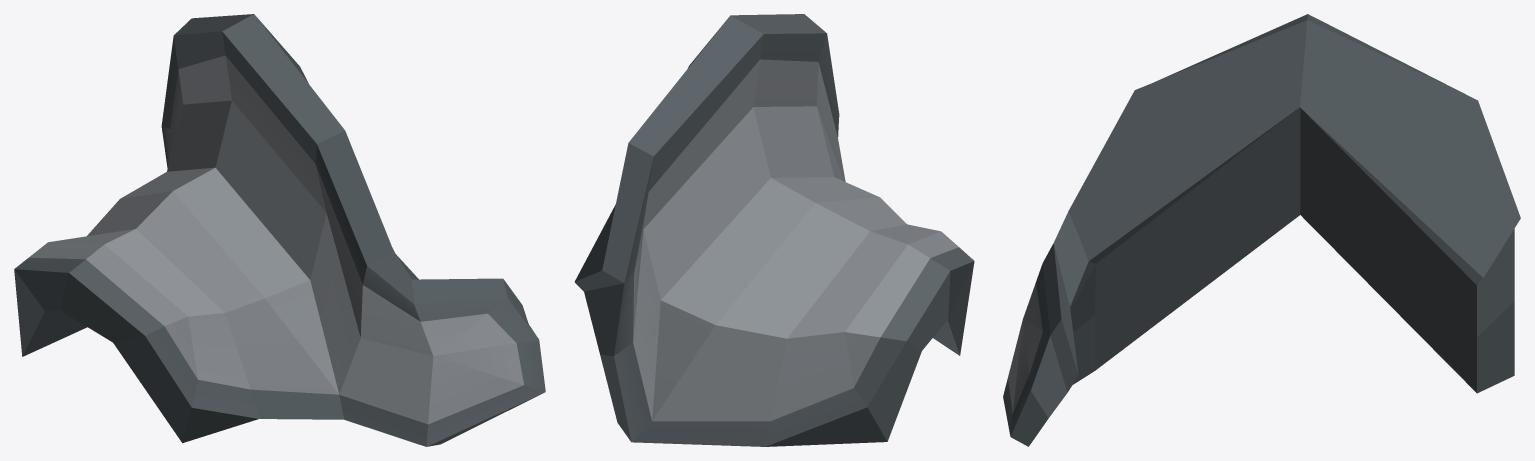
The model's file is Chr_ShoulderAttachRight_07_Static.fbx.
3 renders of one model, left to right at view 1: azimuth 30°, elevation 25°; view 2: azimuth 150°, elevation 25°; view 3: azimuth 270°, elevation 25°, orthographic. The views are drawn at different scales.
Visible parts, largest first — view 1: Chr_ShoulderAttachRight_07_Static; view 2: Chr_ShoulderAttachRight_07_Static; view 3: Chr_ShoulderAttachRight_07_Static.
Part boxes in pixels (x1,y1,x2,y2): Chr_ShoulderAttachRight_07_Static: (14, 14, 545, 446); Chr_ShoulderAttachRight_07_Static: (574, 14, 974, 446); Chr_ShoulderAttachRight_07_Static: (1003, 14, 1520, 446).
Bounding box in the file's own units: 0.3728 × 0.336 × 0.4257.
